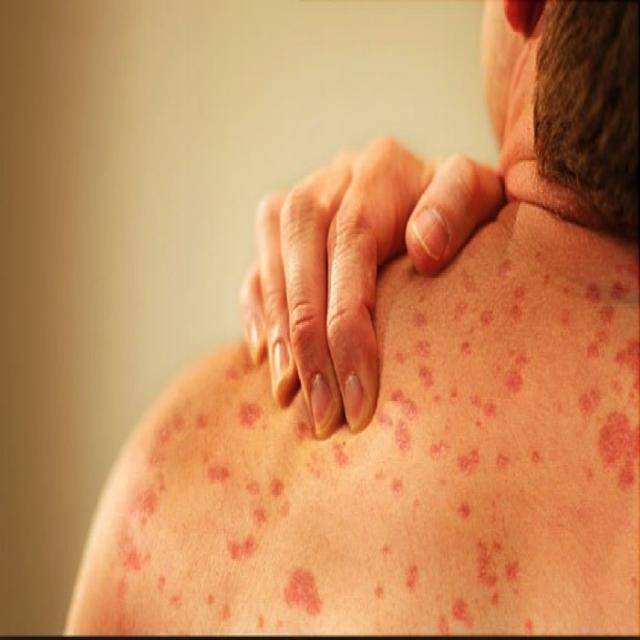hives: (101, 261, 637, 634)
